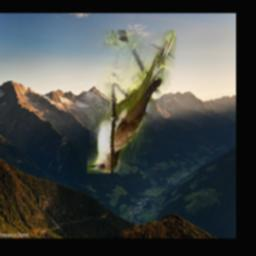Cuckoo: (87, 31, 176, 174)
